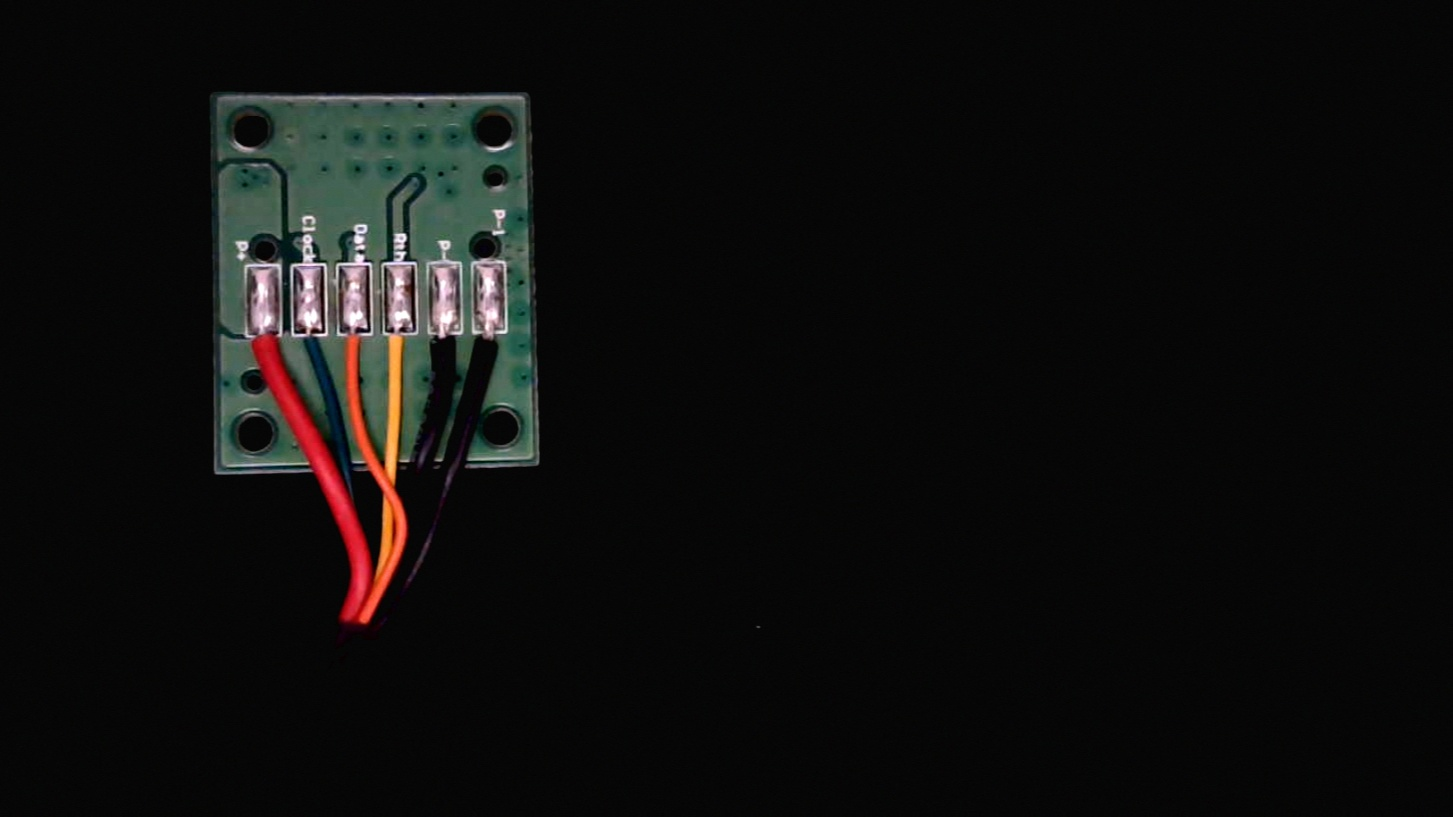Black: (427, 317, 466, 390)
Black1: (476, 314, 515, 392)
Green: (292, 316, 330, 387)
Orange: (336, 315, 375, 383)
Red: (243, 319, 284, 399)
Yellow: (383, 313, 418, 388)
